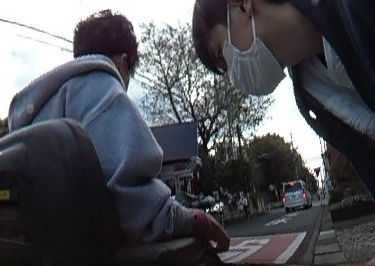person: (5, 9, 180, 252), (238, 192, 249, 217)
